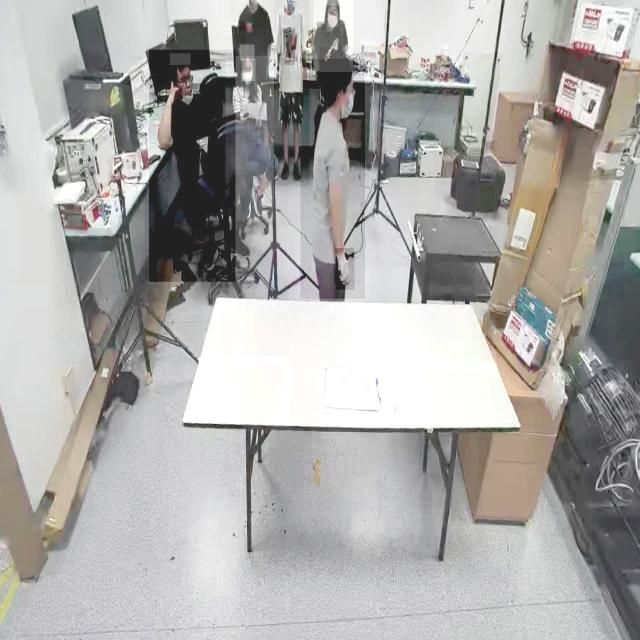face_mask: (338, 88, 356, 129), (324, 4, 342, 27), (242, 58, 256, 82)
hand_glove: (336, 248, 354, 291)
hand_noglove: (165, 78, 182, 109), (301, 67, 309, 81)
head_nohelmet: (319, 47, 353, 77), (170, 53, 190, 66), (240, 44, 254, 61), (326, 0, 340, 6)
person: (148, 50, 235, 282), (300, 58, 365, 300), (226, 56, 274, 222), (274, 0, 310, 187), (230, 0, 274, 88), (313, 0, 353, 72)
